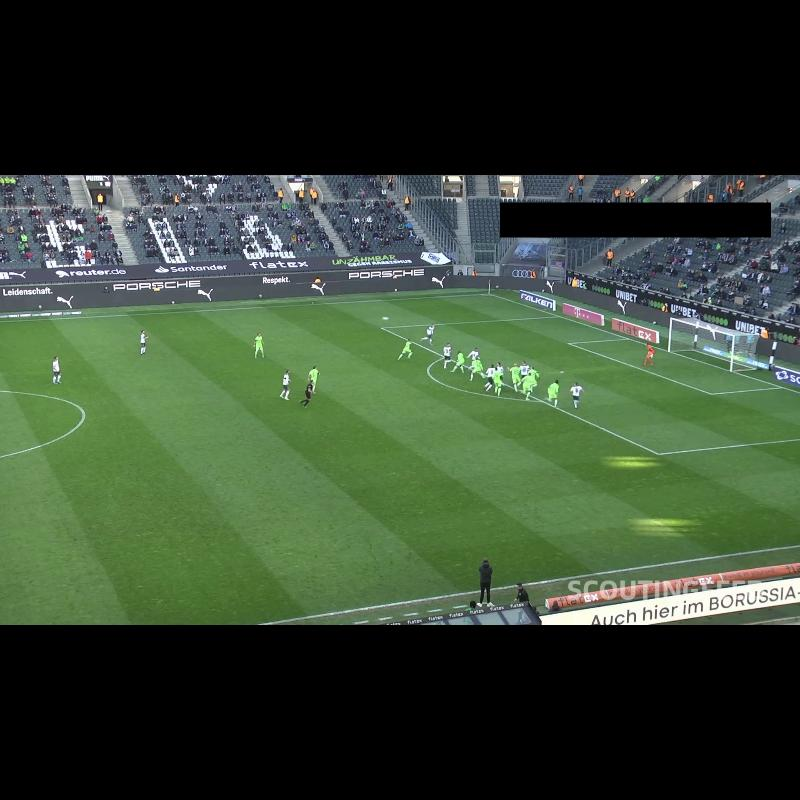cross_recipient_zone: (382, 316, 800, 454)
crossing_player_zone: (508, 438, 800, 566), (234, 294, 558, 335)
pitch: (0, 294, 800, 625)
